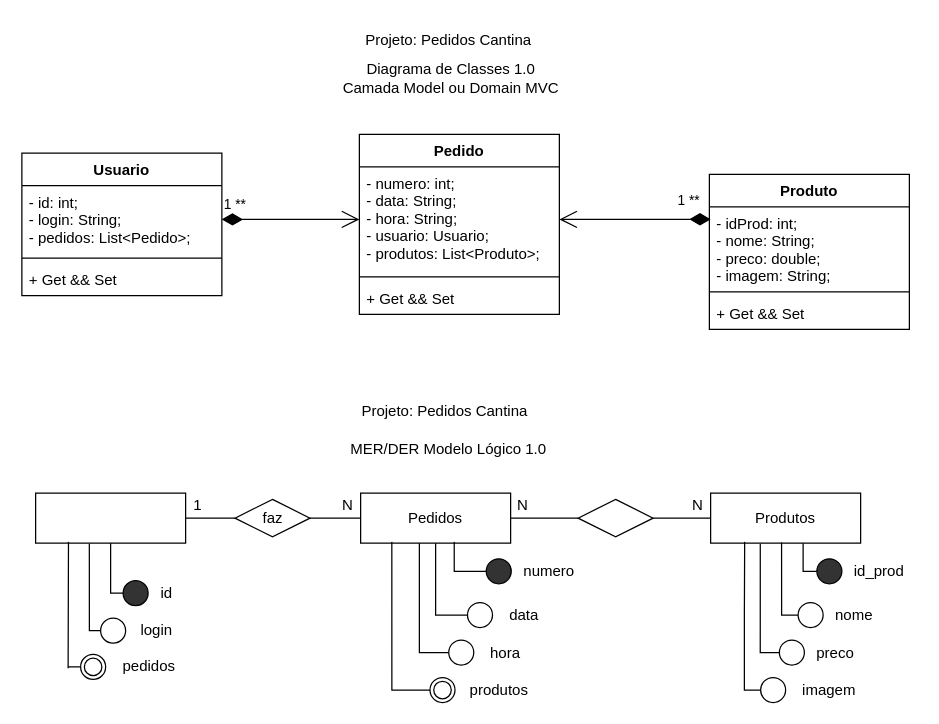
The diagram is 939 pixels wide and 724 high, and some of its shapes have lost their labels. The centre of each missing label's shape, as x and y in pixels:
possui: pixel 615 517
Usuários: pixel 110 517
